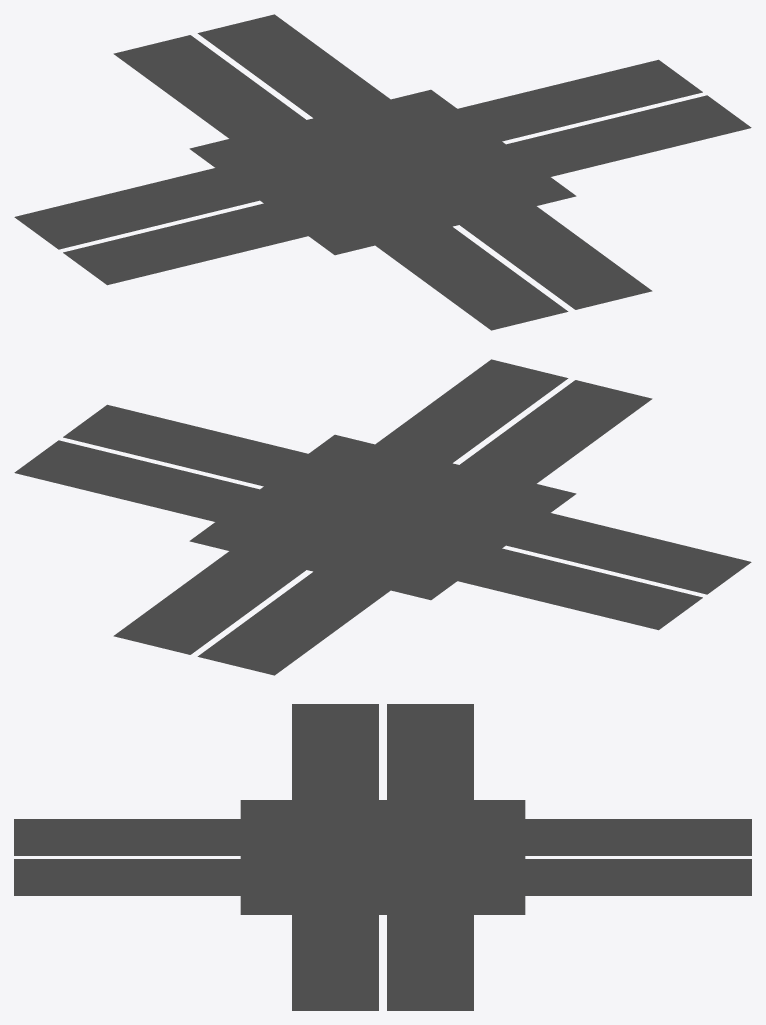
The model's file is IntersectionRoad.fbx.
3 views of the same model, one above another, from view 1: azimuth 30°, elevation 25°; view 2: azimuth 150°, elevation 25°; view 3: azimuth 270°, elevation 25° (orthographic). The views are drawn at different scales.
Visible parts, largest first — view 1: pPlane26, pPlane53, pPlane54, pPlane55, pPlane56, pPlane49, pPlane52, pPlane50, pPlane51; view 2: pPlane26, pPlane53, pPlane54, pPlane55, pPlane56, pPlane50, pPlane51, pPlane49, pPlane52; view 3: pPlane26, pPlane49, pPlane50, pPlane51, pPlane52, pPlane53, pPlane54, pPlane55, pPlane56.
Boxes of the visible parts, box(x1,y1,x2,y2) form: pPlane26: box(189, 89, 576, 255); pPlane53: box(63, 203, 308, 285); pPlane54: box(14, 168, 259, 249); pPlane55: box(506, 95, 751, 176); pPlane56: box(457, 59, 702, 141); pPlane49: box(375, 226, 568, 330); pPlane52: box(197, 14, 390, 118); pPlane50: box(460, 206, 652, 309); pPlane51: box(113, 35, 305, 138); pPlane26: box(189, 434, 576, 600); pPlane53: box(506, 513, 751, 594); pPlane54: box(457, 548, 702, 630); pPlane55: box(63, 404, 308, 486); pPlane56: box(14, 440, 259, 521); pPlane50: box(375, 359, 568, 463); pPlane51: box(197, 571, 390, 675); pPlane49: box(460, 380, 652, 483); pPlane52: box(113, 551, 305, 654); pPlane26: box(240, 800, 525, 914); pPlane49: box(14, 819, 240, 855); pPlane50: box(14, 859, 240, 895); pPlane51: box(525, 819, 751, 855); pPlane52: box(525, 859, 751, 895); pPlane53: box(292, 704, 378, 799); pPlane54: box(387, 704, 473, 799); pPlane55: box(292, 915, 378, 1010); pPlane56: box(387, 915, 473, 1010).
Size of the model in its own units: 8006 by 0 by 8134.
